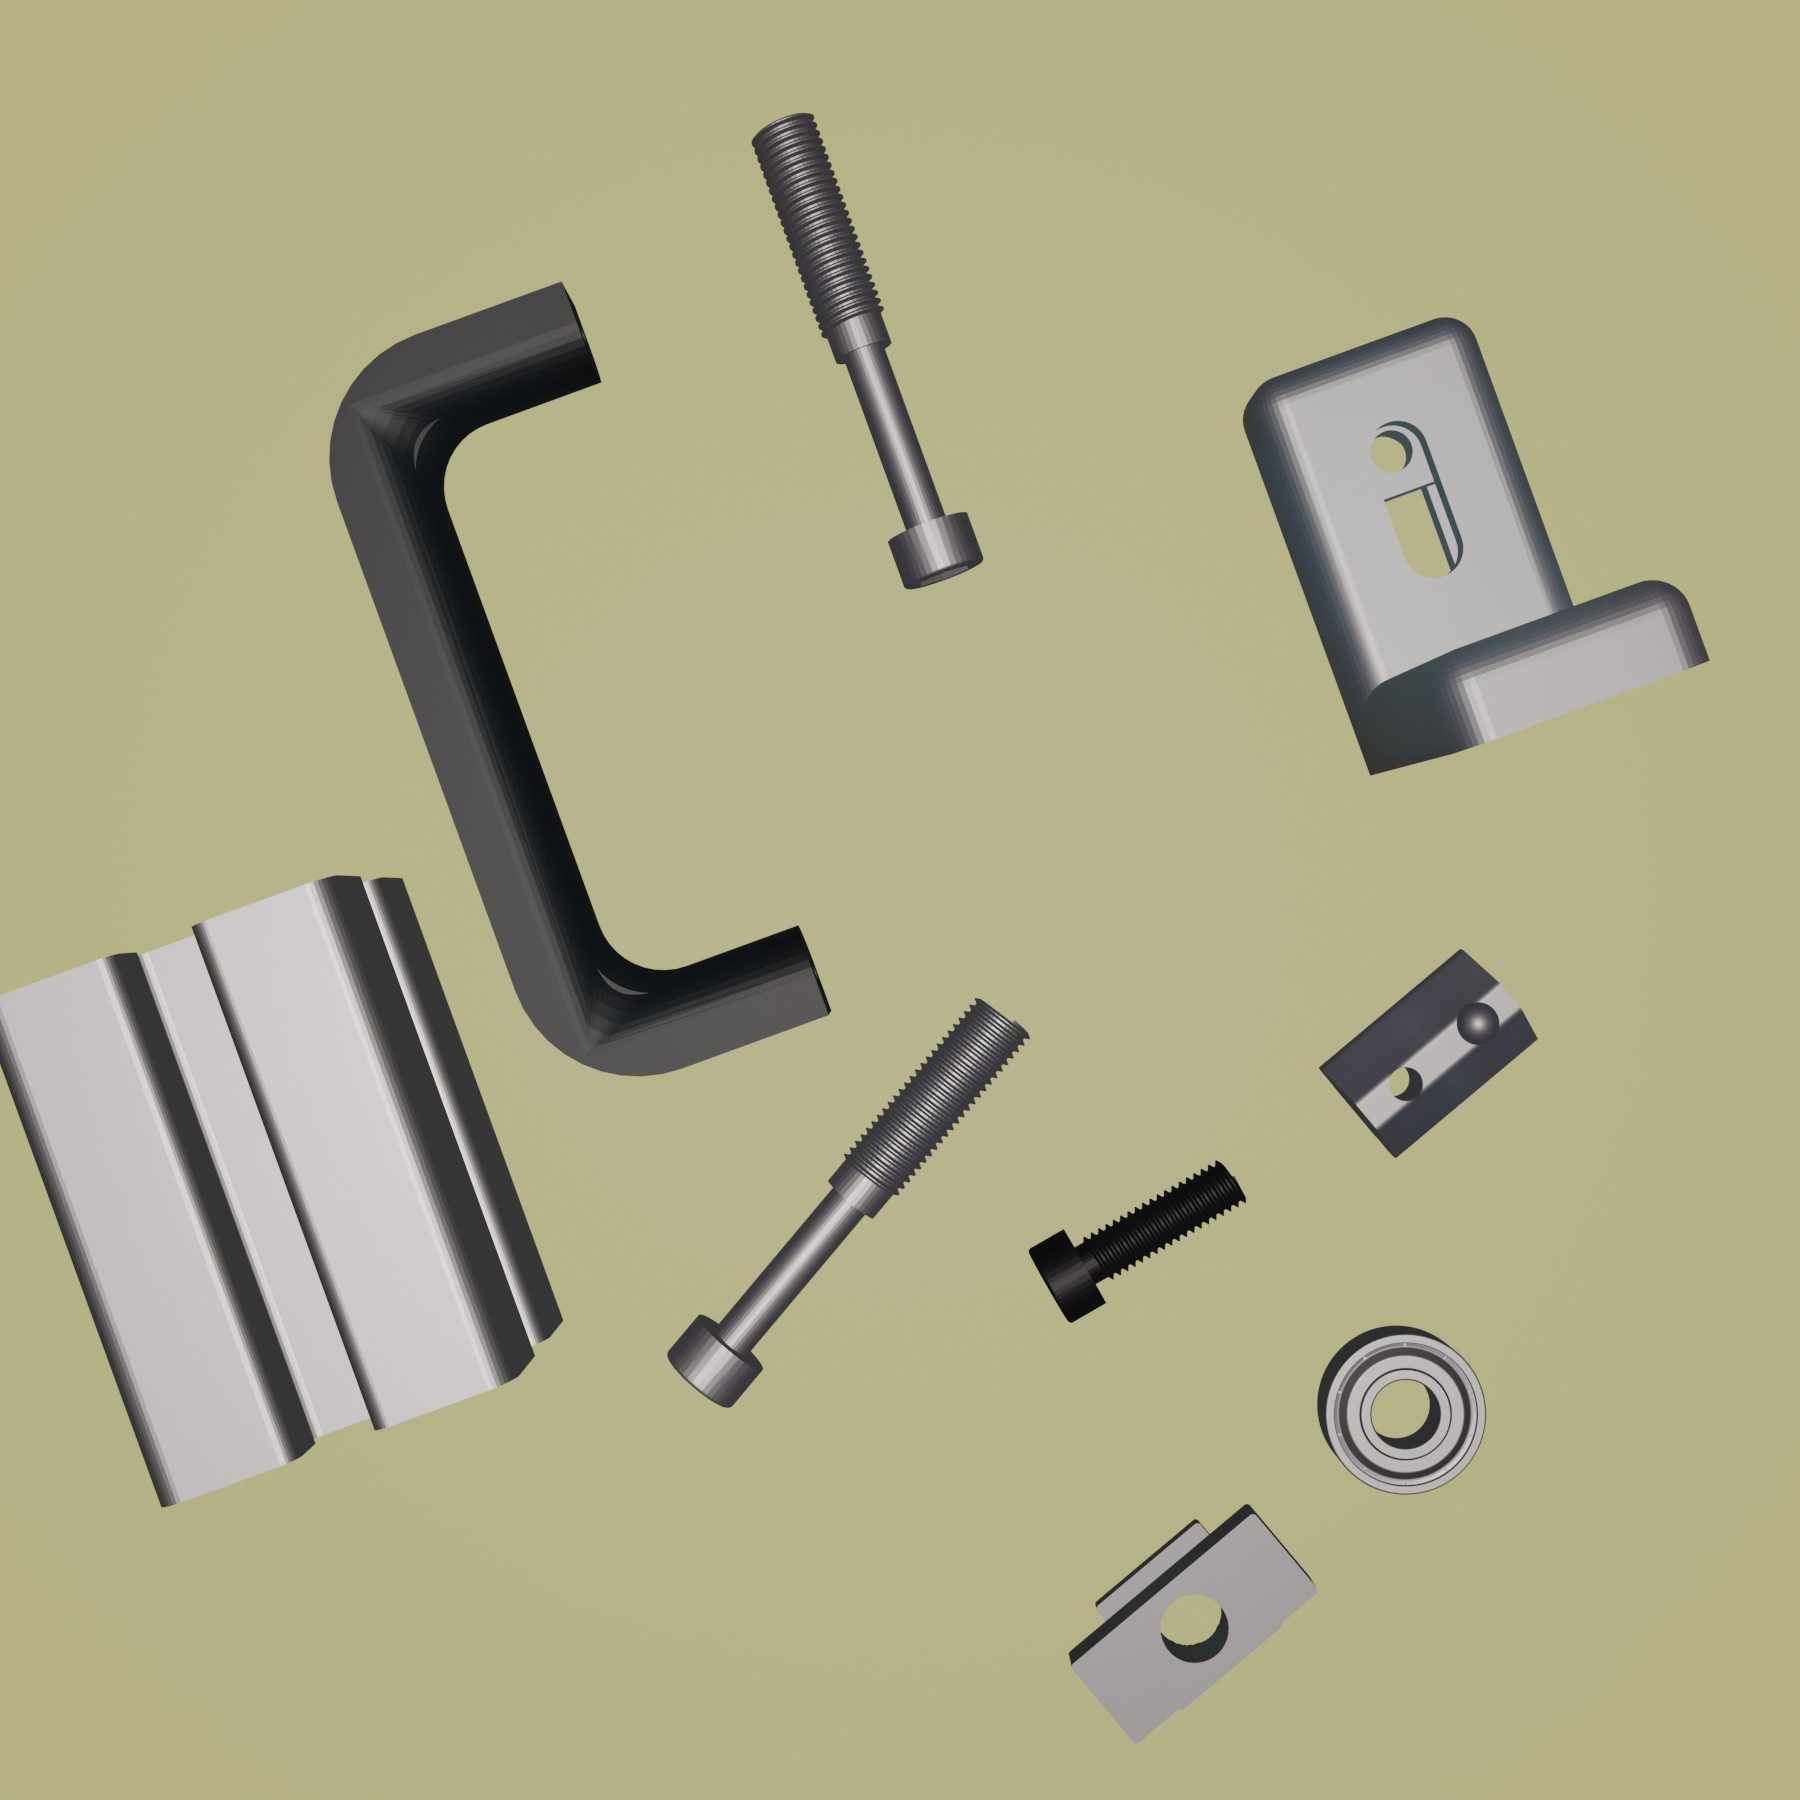Aluminium Extension: (2, 874, 565, 1512)
Ball Bearing: (1315, 1324, 1488, 1497)
Multiwinkel: (1240, 315, 1713, 776)
Pull Handle: (325, 279, 832, 1078)
Shoulder Socket Head Cap Screw: (664, 989, 1034, 1409), (752, 109, 986, 592)
Socket Head Cap Screw: (1025, 1159, 1248, 1327)
T Nut Square: (1066, 1498, 1324, 1749)
T Spring Nut: (1319, 946, 1543, 1160)
